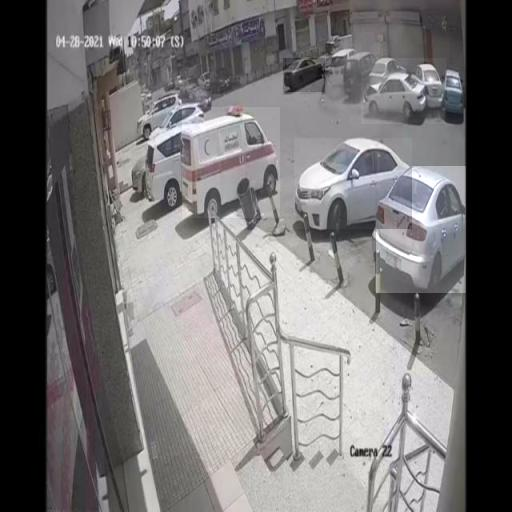小汽车: (376, 166, 466, 293), (182, 107, 280, 218), (294, 138, 412, 229), (283, 58, 325, 92)
小汽车撞小汽车: (361, 58, 446, 124)
